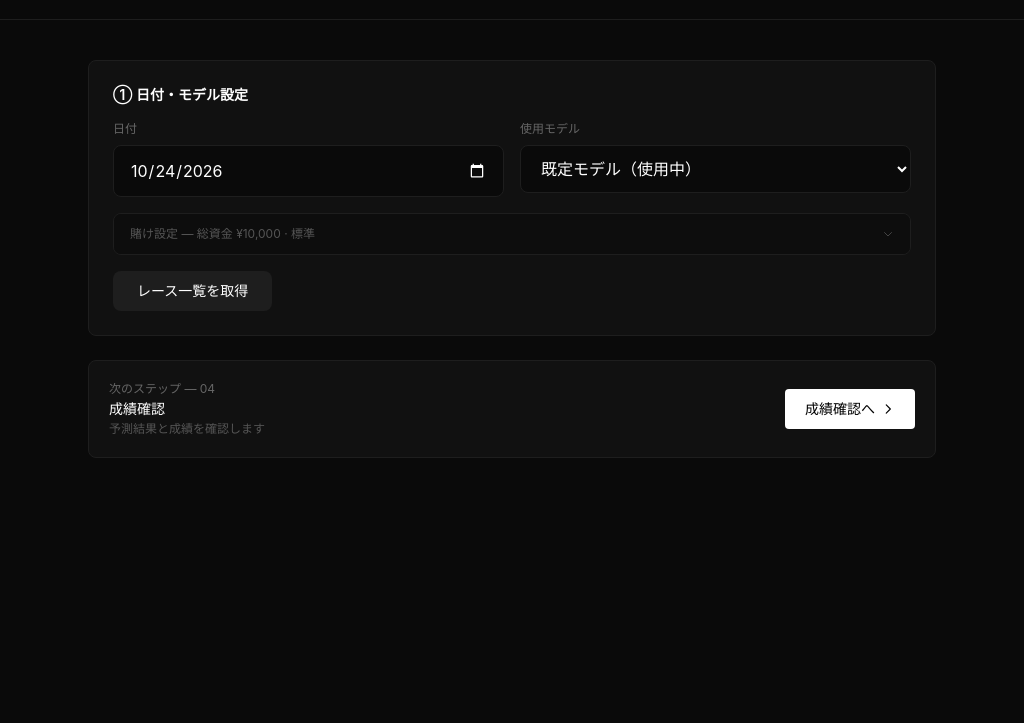
Test case: parallel batch prediction UI › continues after an individual failed race without recording that failure
What coordinates should you click on to do the following:
click the button "レース一覧を取得"
I would click on:
 (193, 291)
Its box is [113,271,272,311].
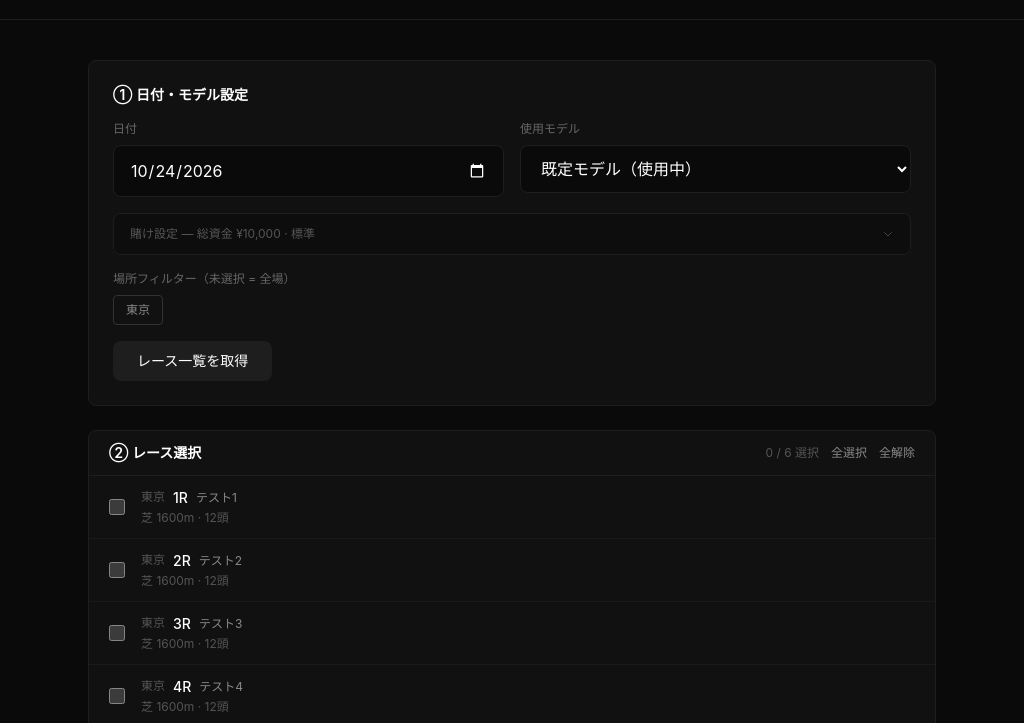
What coordinates should you click on to do the following:
click the button "全選択"
I would click on:
 (849, 453)
Its box is [831,445,867,461].
(page scrolled)
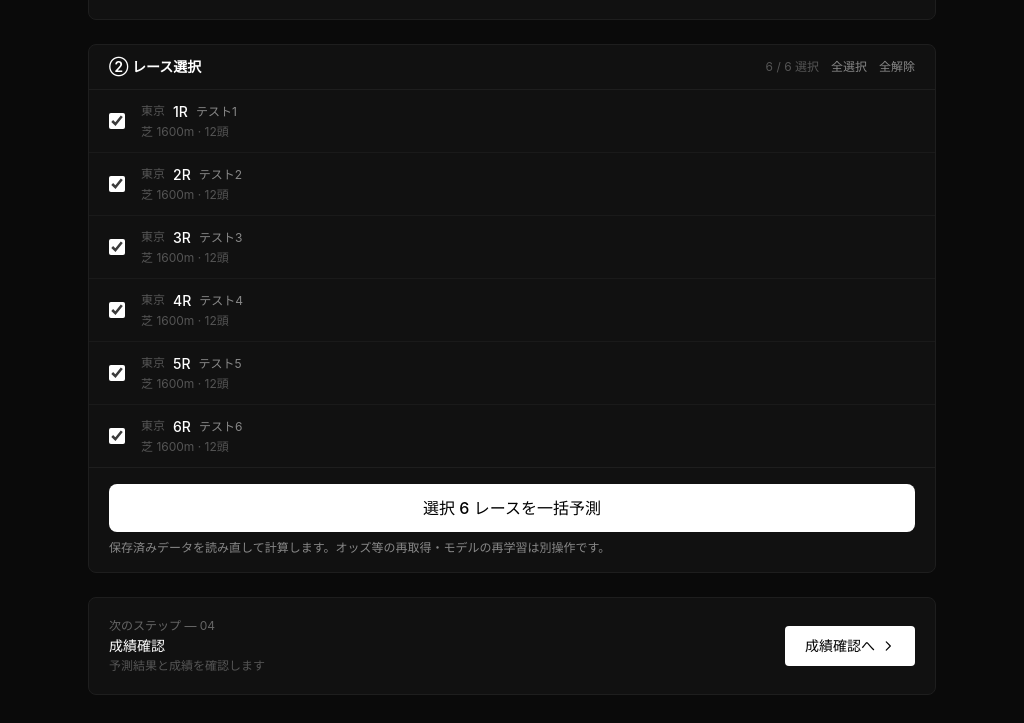
What coordinates should you click on to do the following:
click the button "選択 6 レースを一括予測"
I would click on:
 (512, 508)
Its box is [109,484,915,532].
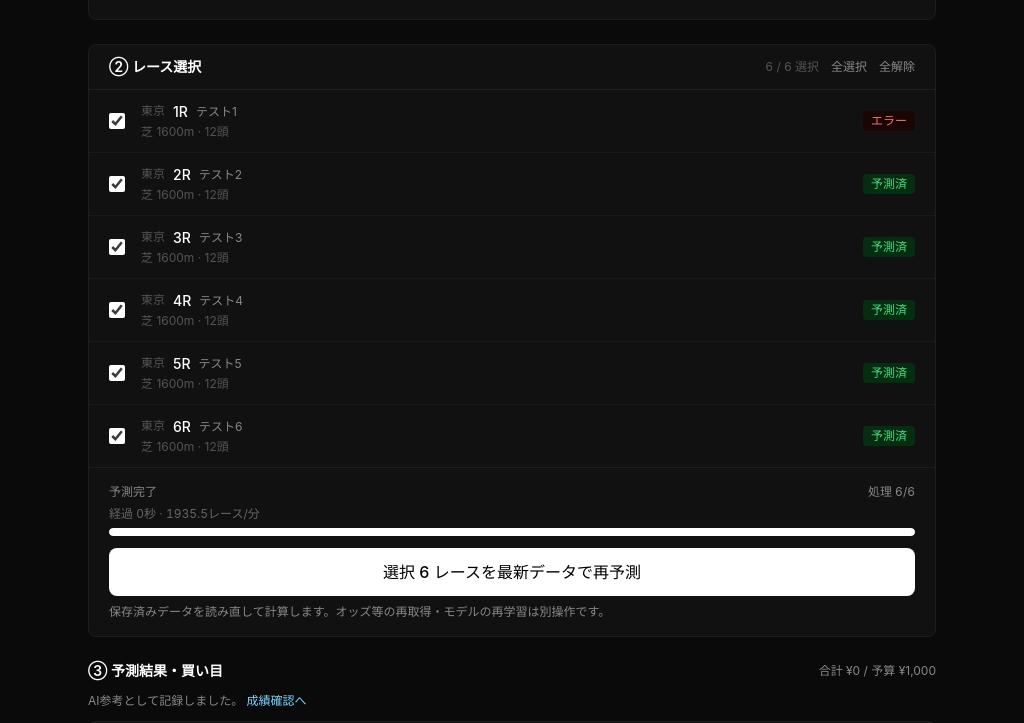
Result: the text "AI参考として記録しました。 成績確認へ" is shown at [88,693,306,708]
Result: the message with test id "prediction-live-progress" shows "処理 6/6" at [109,484,915,536]
